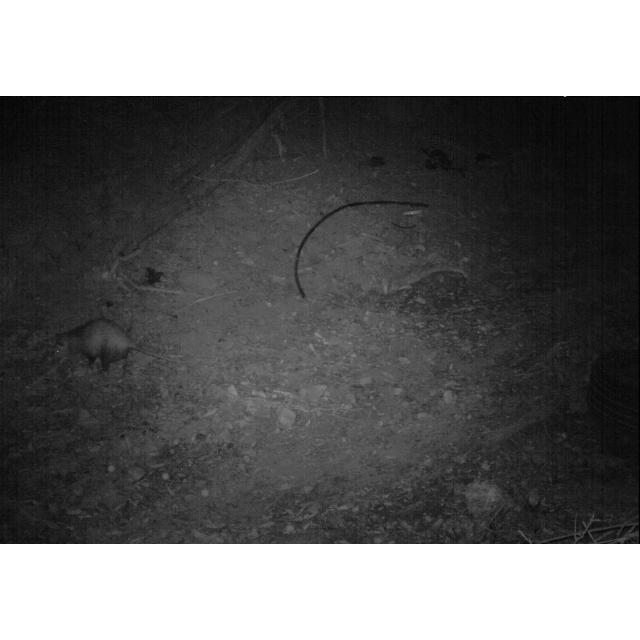animals: (52, 315, 180, 375)
